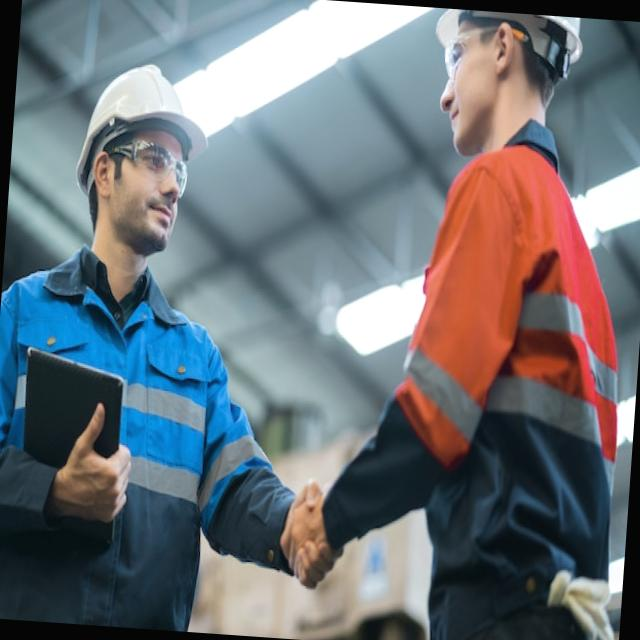goggles: (428, 16, 496, 93), (115, 137, 193, 190)
helmet: (80, 37, 228, 167), (419, 6, 597, 64)
no-vest: (375, 132, 639, 578), (0, 268, 235, 633)
